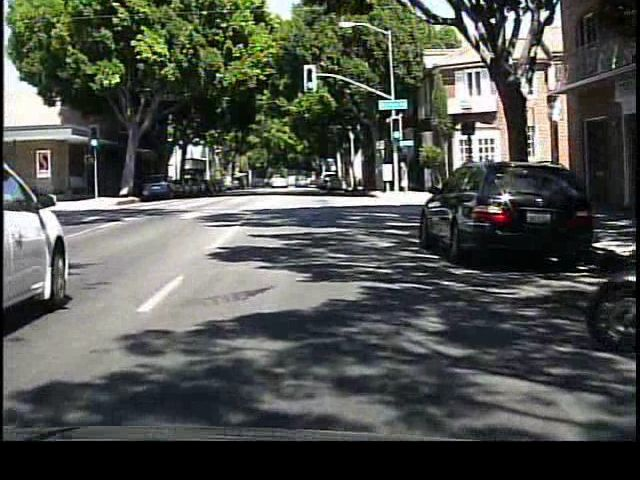person: (396, 157, 414, 195)
